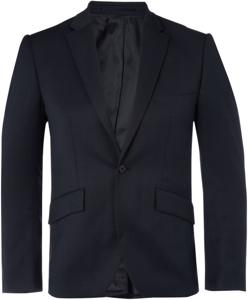F_M_suit jacket: (7, 4, 241, 292)
